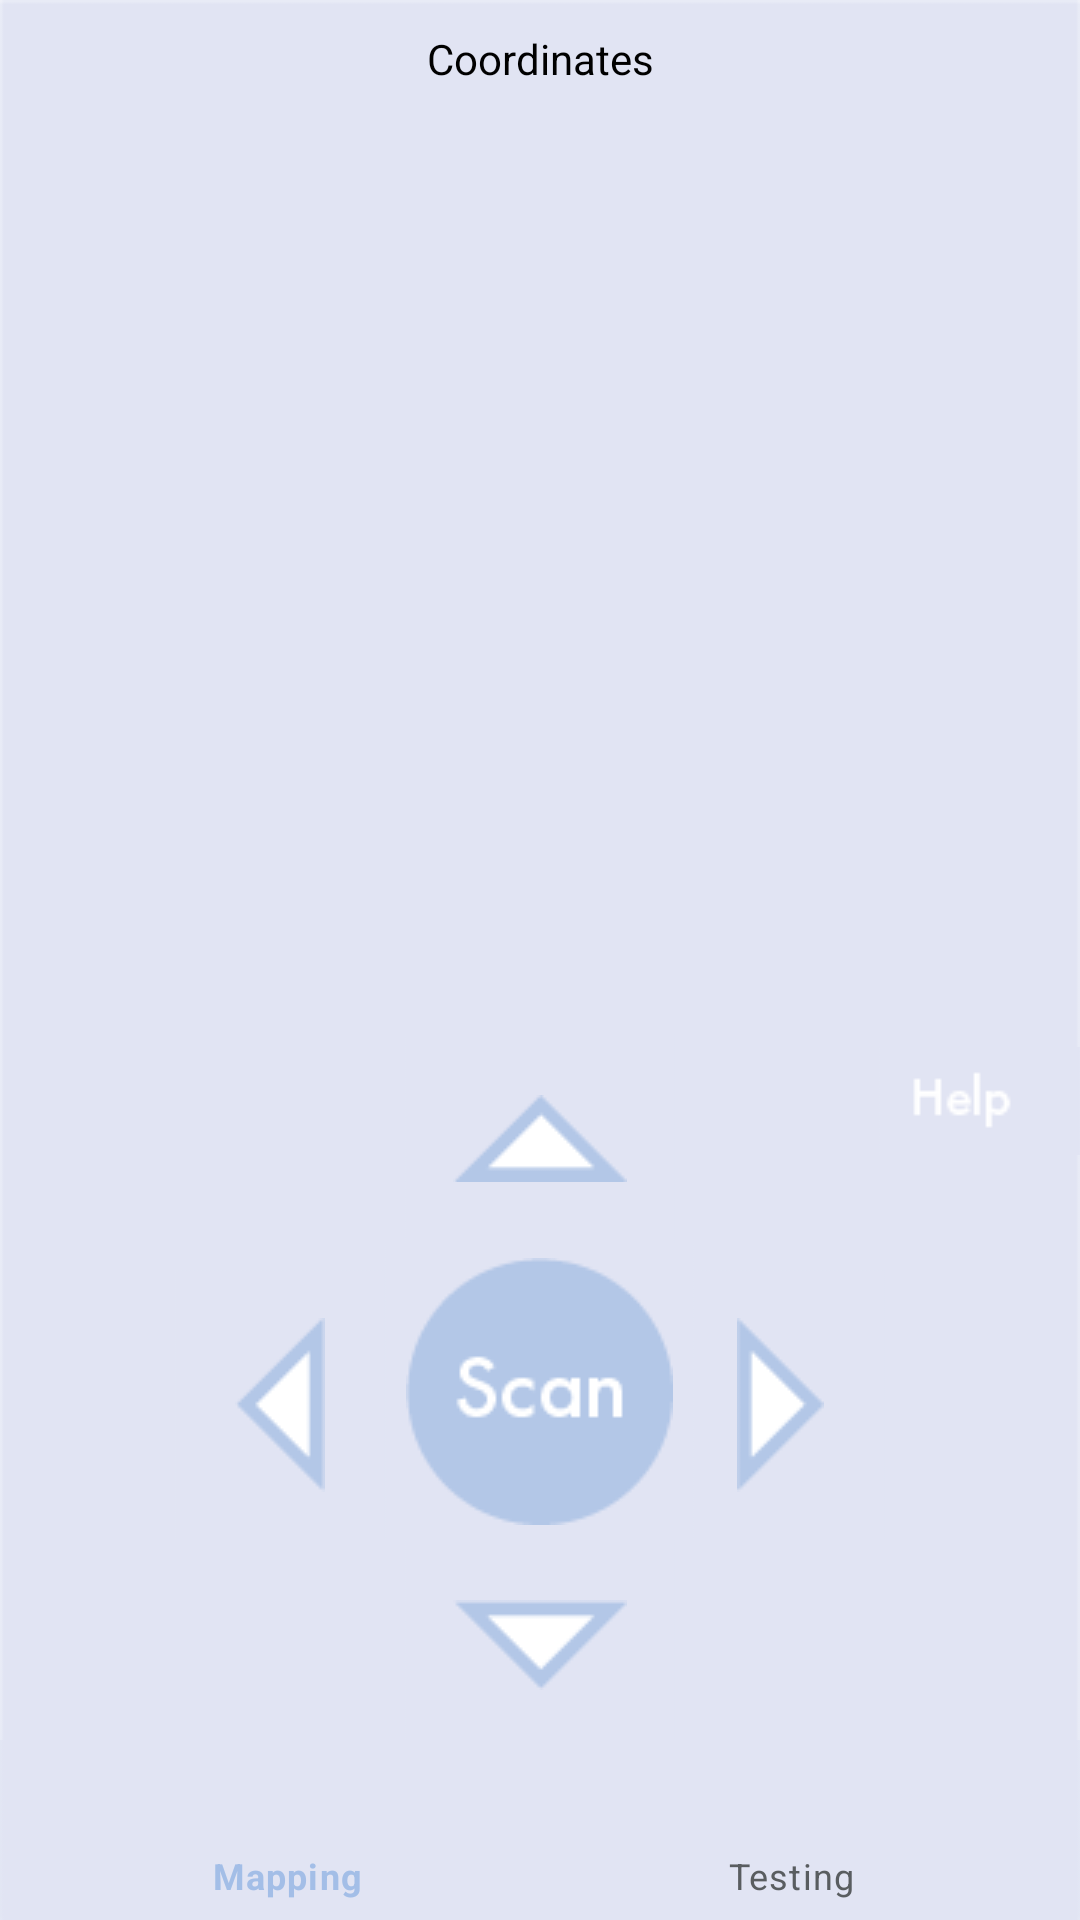

Where to tap for icons on this 1080px x 1920px app screen, as (x=x, y=y):
downarrowbutton: (x=541, y=1645)
leftarrowbutton: (x=280, y=1404)
rightarrowbutton: (x=780, y=1405)
uparrowbutton: (x=541, y=1138)
